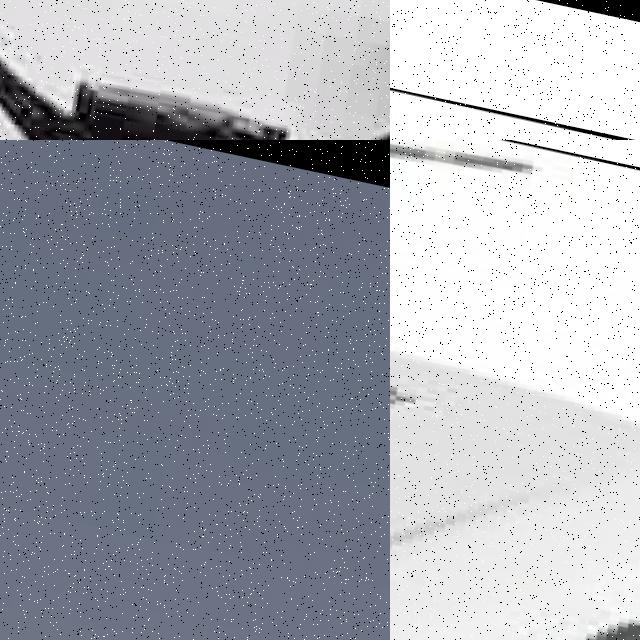0: (0, 0, 390, 140)
drone: (390, 140, 640, 640), (390, 15, 640, 140)
